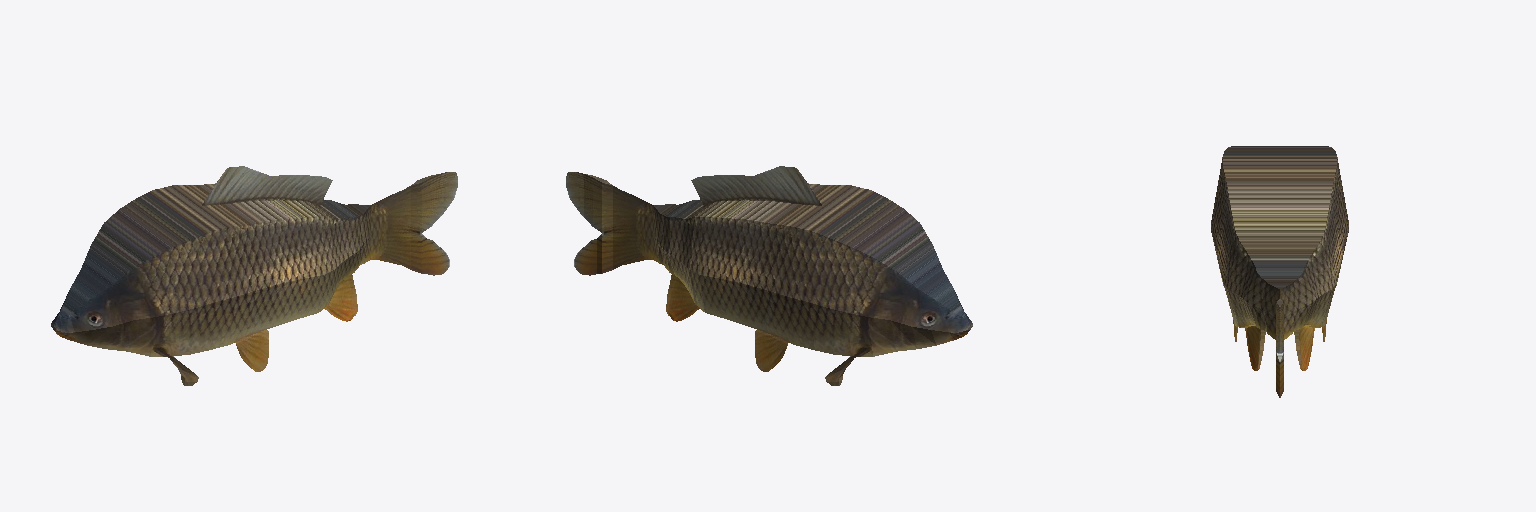
3 renders of one model, left to right at view 1: azimuth 30°, elevation 25°; view 2: azimuth 150°, elevation 25°; view 3: azimuth 270°, elevation 25°, orthographic.
Parts seen in each view (by area): view 1: Cube; view 2: Cube; view 3: Cube.
Part boxes in pixels (bbox=[...]): Cube: bbox=[51, 166, 457, 385]; Cube: bbox=[566, 166, 972, 385]; Cube: bbox=[1211, 146, 1348, 397].
Size of the model in its own units: 1.24 by 0.558 by 0.3651.
Materials: 1 (1 with a texture image).